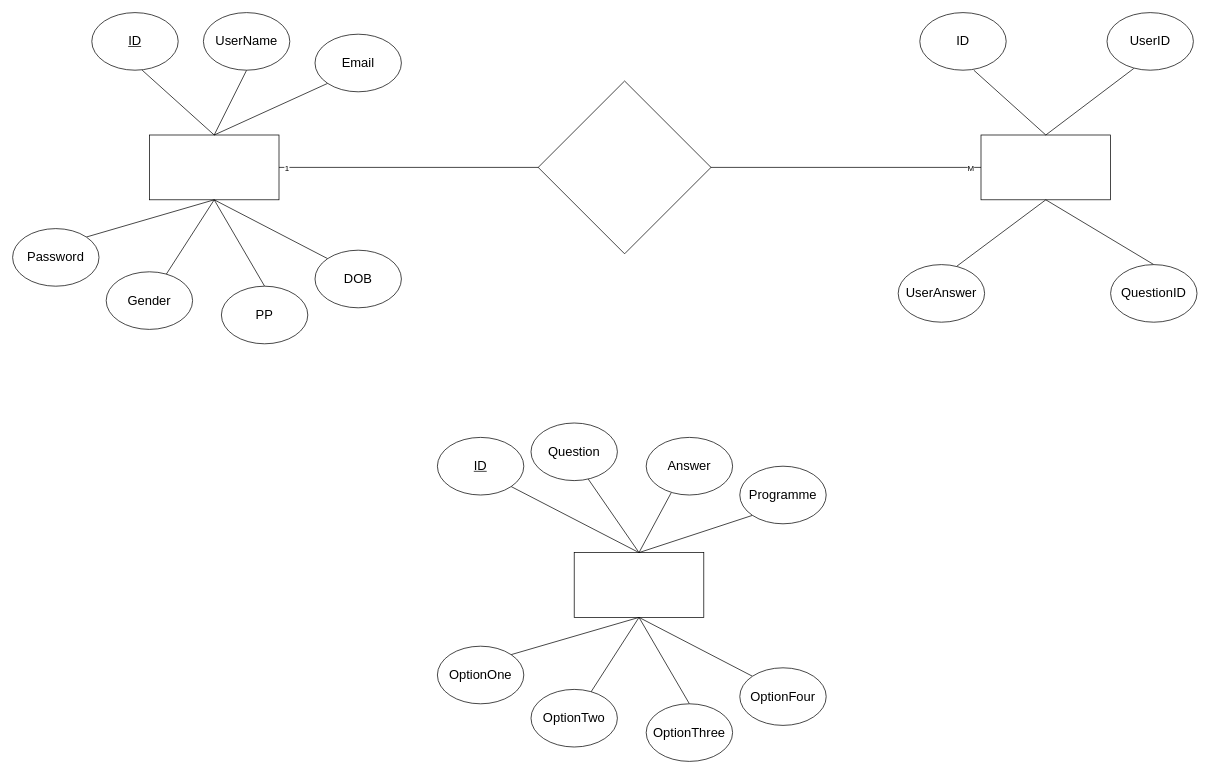
Image size: 1210x774. Some labels were removed from this diagram. Each missing label, with the centre of its shape:
Has: point (624, 167)
Questions: point (638, 584)
Result: point (1045, 167)
Users: point (214, 167)
